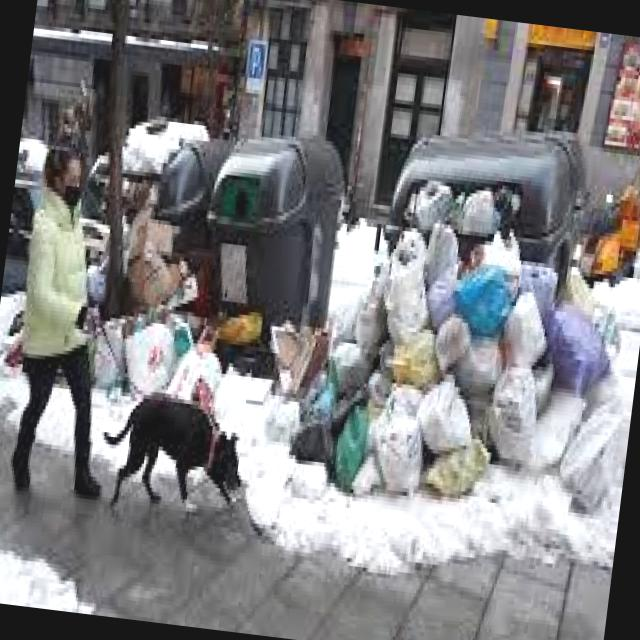garbage: (259, 160, 640, 523), (70, 180, 326, 403)
